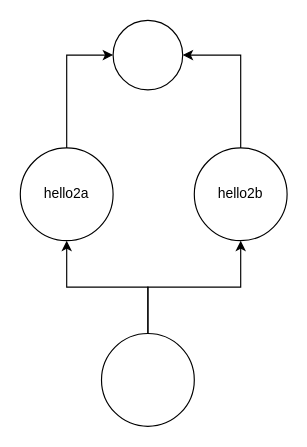
This 307x447 diagram has some shape labels left out. The shapes that lost their labels are listed below. From the top down, each one's centre as x and y in pixels, then its label:
pixel 147 54: hello1
pixel 147 379: hello3
